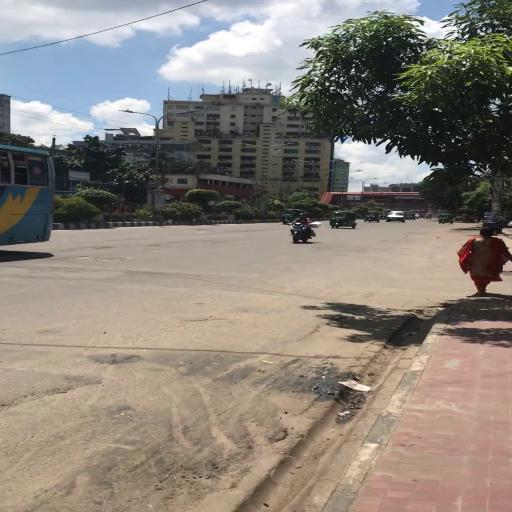bus: (1, 143, 55, 251)
minivan: (385, 212, 407, 224)
motorbike: (287, 225, 317, 245)
three wheelers (CNG): (330, 211, 358, 230), (280, 209, 306, 225), (364, 212, 381, 224), (438, 215, 454, 226), (407, 213, 416, 221)
